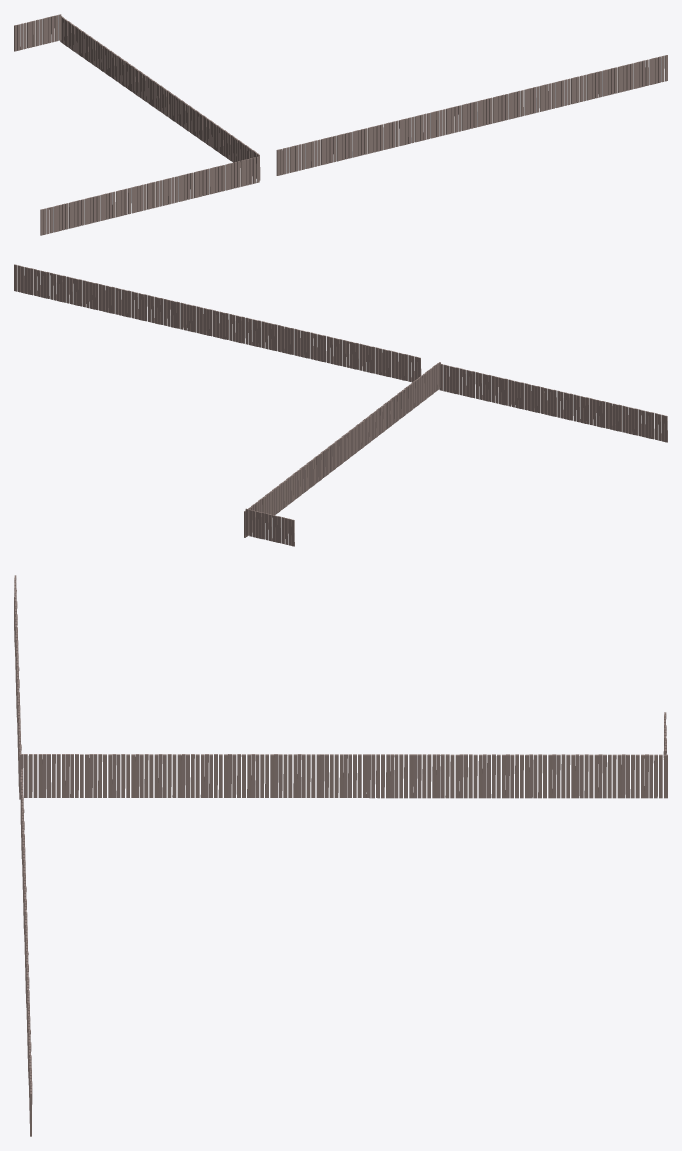
The model's file is TPCS_Zaun_007.fbx.
The picture shows the model from 3 angles, top to bottom: view 1: azimuth 30°, elevation 25°; view 2: azimuth 150°, elevation 25°; view 3: azimuth 270°, elevation 25°; orthographic projection. The views are drawn at different scales.
Visible parts, largest first — view 1: Cube.002; view 2: Cube.002; view 3: Cube.002.
Part boxes in pixels (x1,y1,x2,y2): Cube.002: [14, 14, 667, 235]; Cube.002: [14, 264, 667, 546]; Cube.002: [14, 575, 667, 1136].
Size of the model in its own units: 2197 by 95.36 by 1182.
